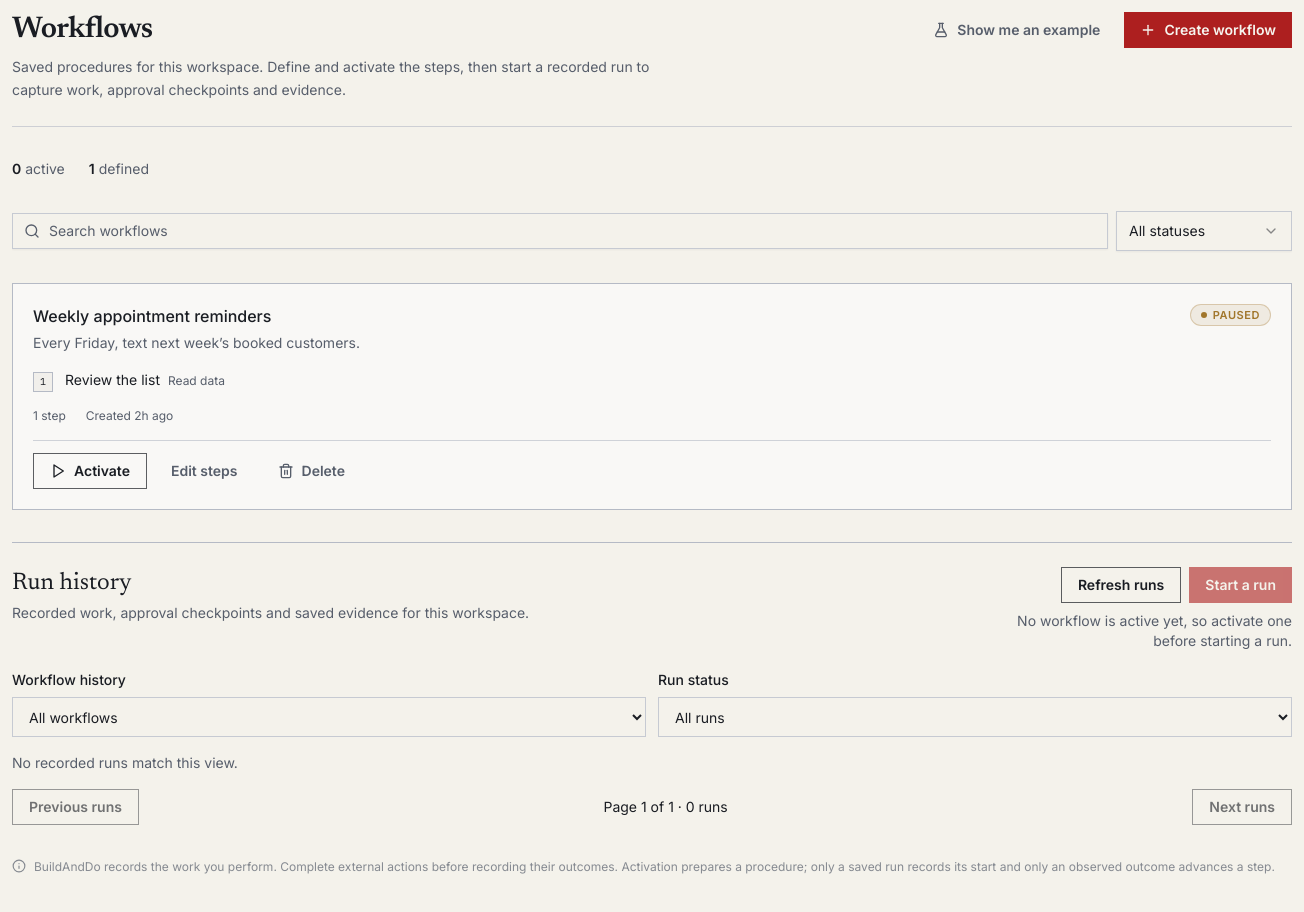
Test: WorkflowsPage › activates a paused workflow
The width and height of the screenshot is (1304, 912).
Click the button "Activate" at (90,471), box [33,453,147,489]
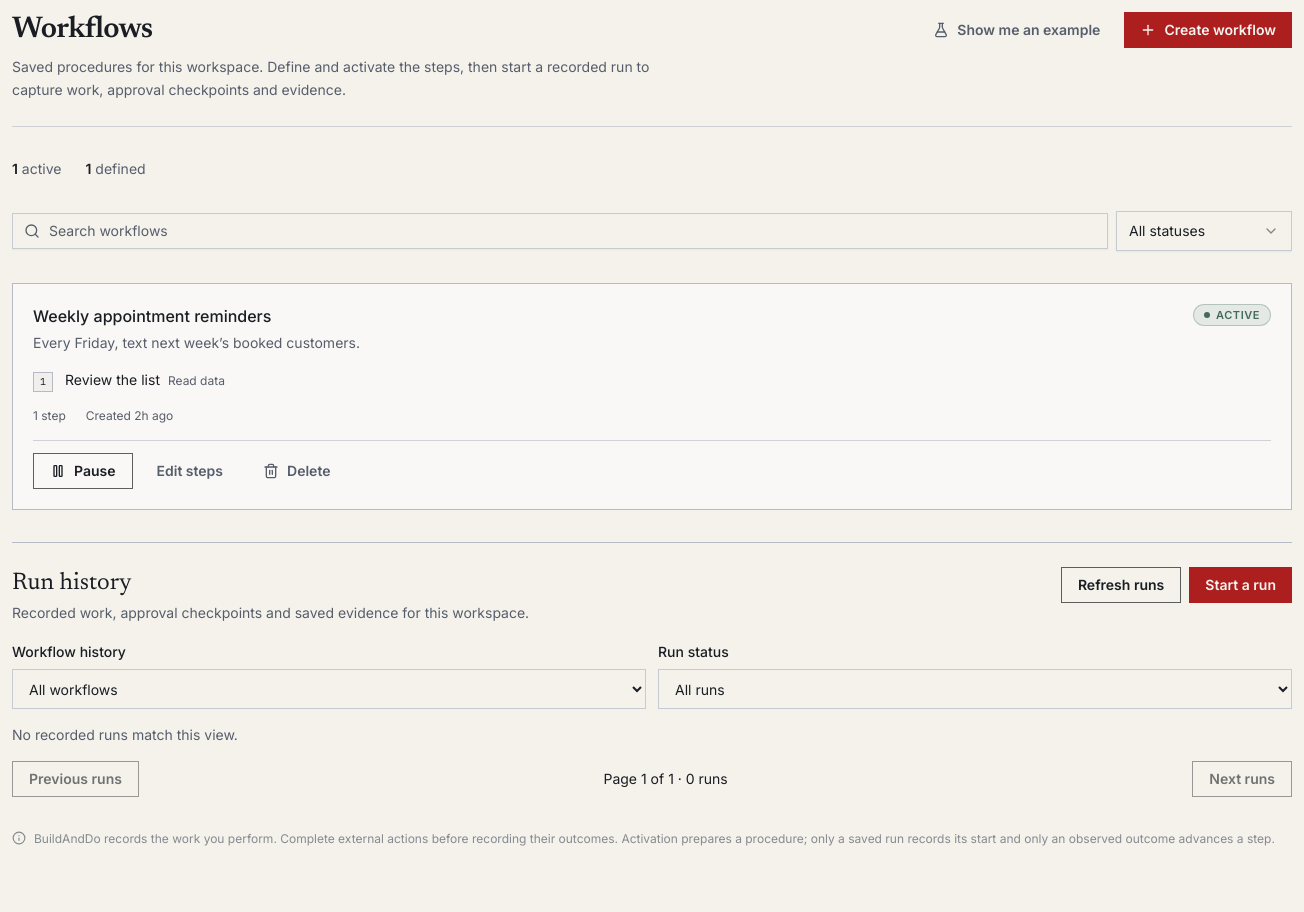
Expected: the text "Active" is shown, [1193,304,1271,326]
